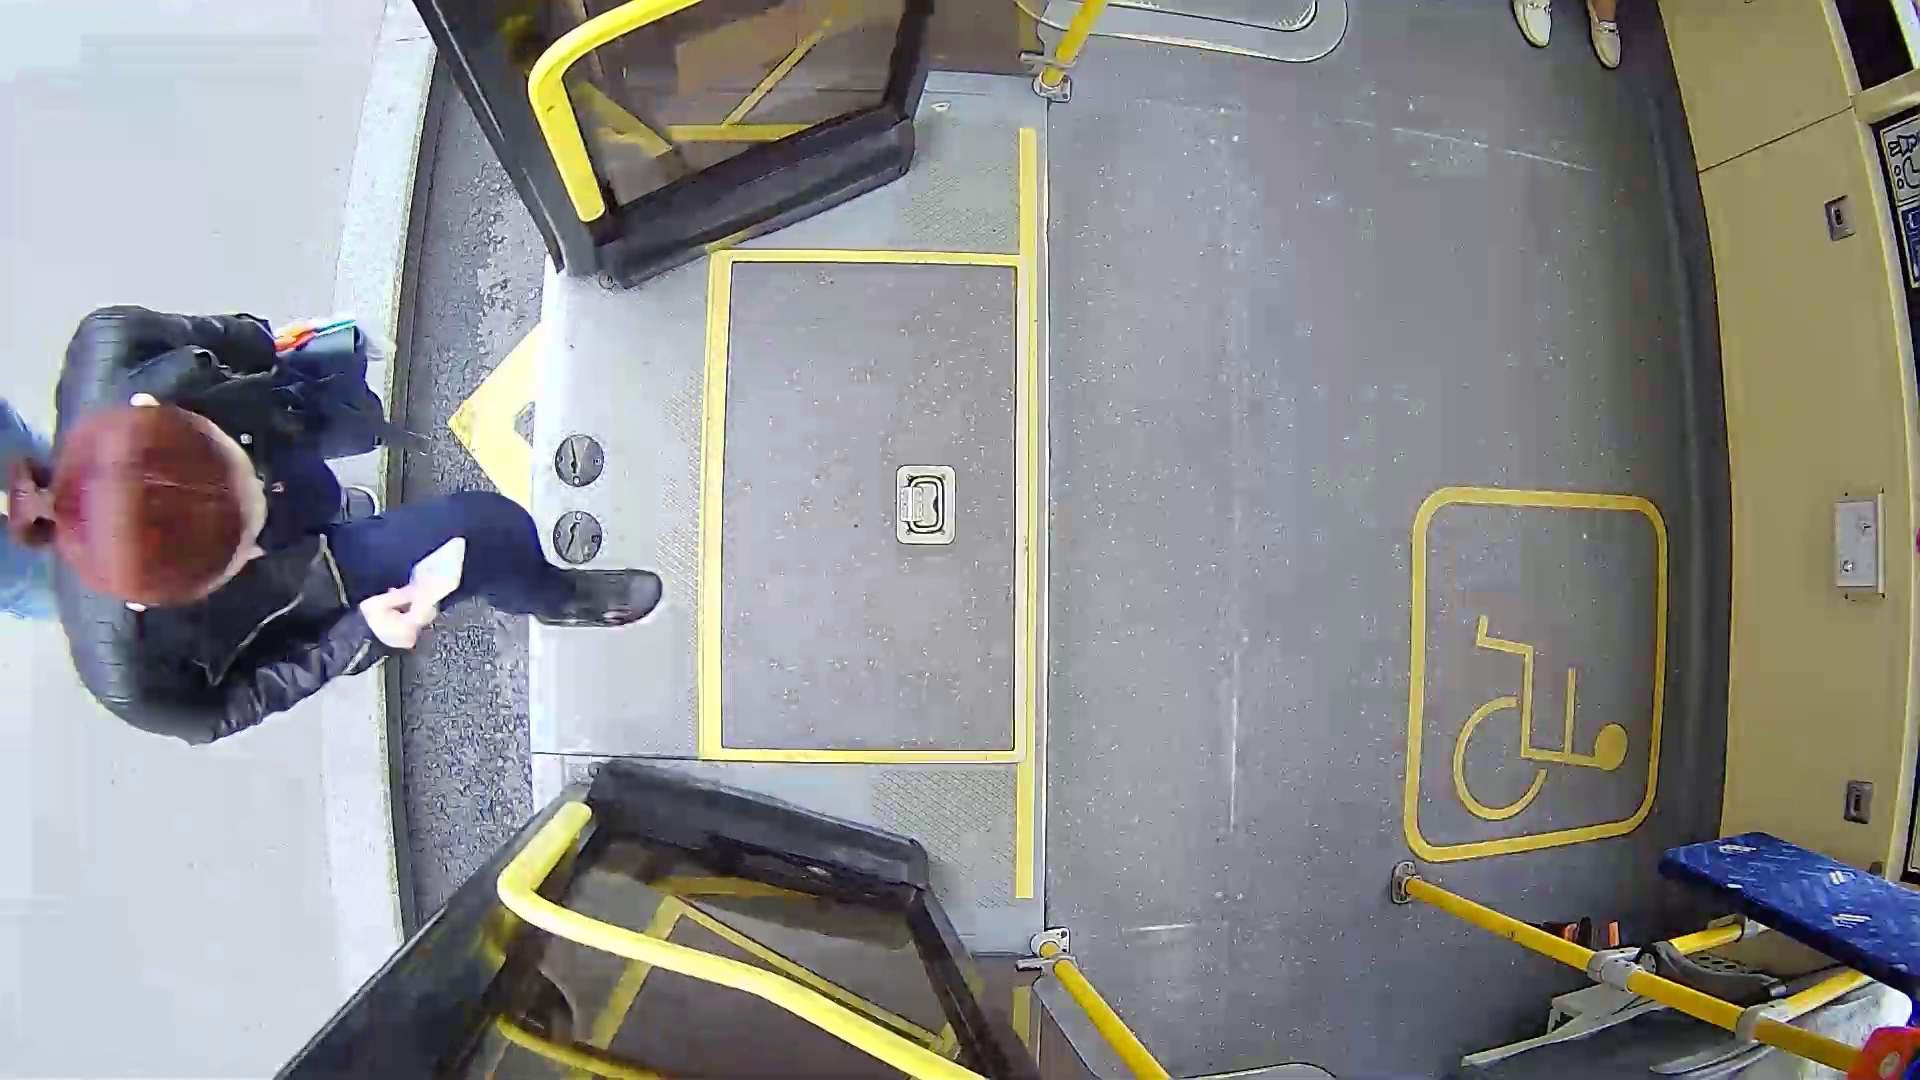person: (14, 273, 789, 787)
